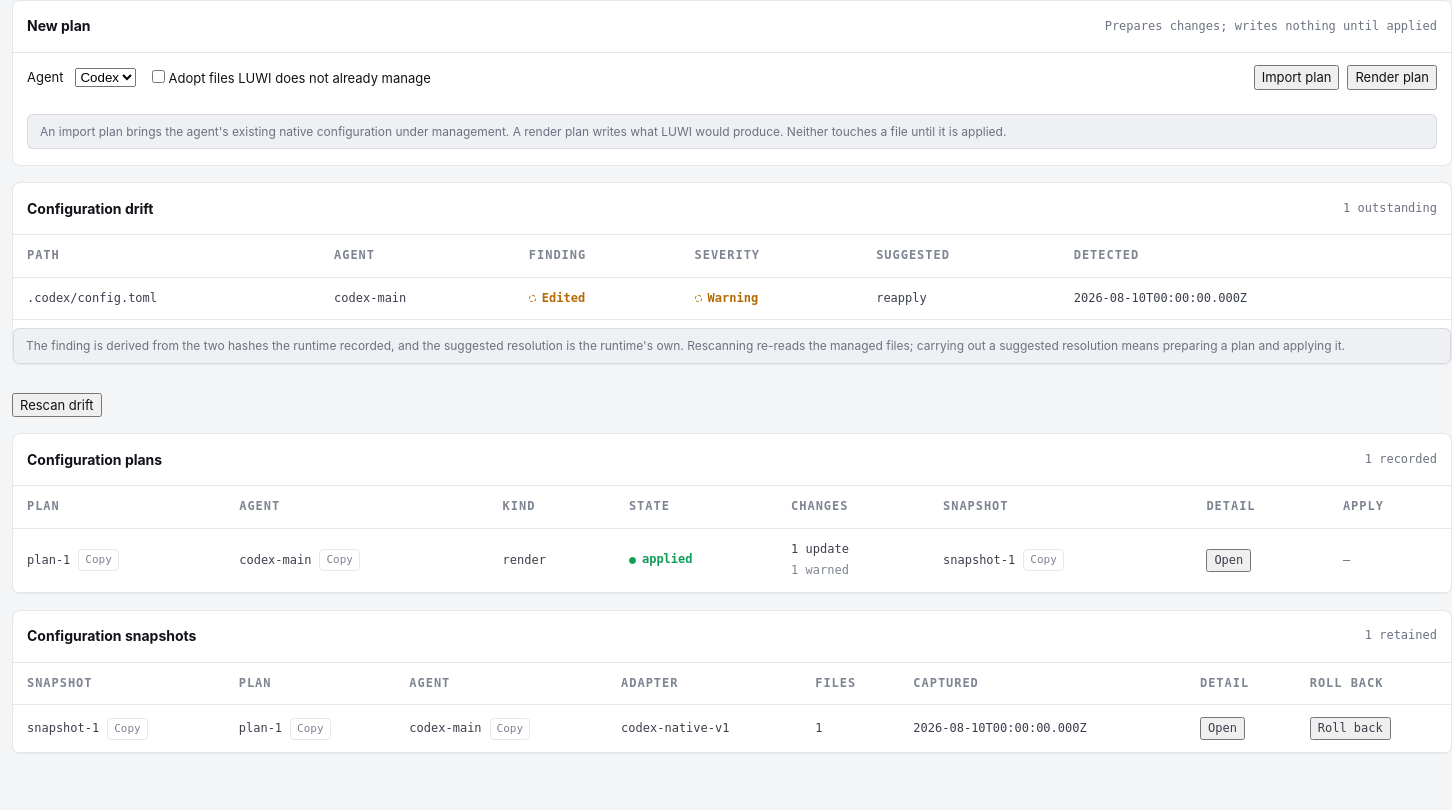
Test: ConfigView mutations › rescans drift through its own control
Click the button "Rescan drift" at (57, 405), box [12,393,102,417]
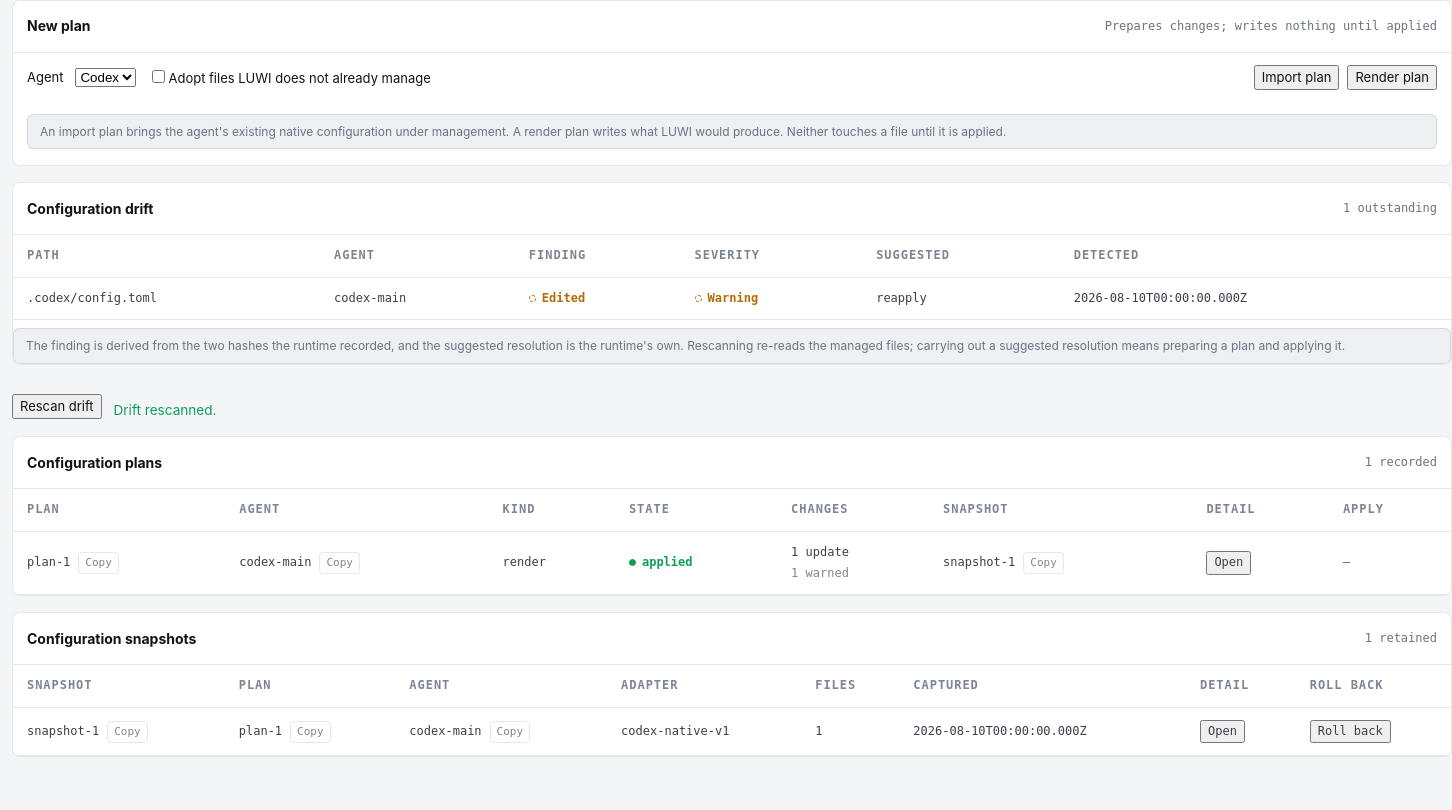
Check: the text "Drift rescanned." is shown, box [114,401,217,420]
